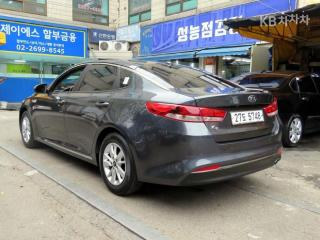2: (234, 113, 238, 123)
4: (255, 111, 258, 120)
5: (247, 111, 251, 121)
7: (238, 112, 242, 122), (251, 111, 255, 121)
8: (257, 111, 261, 120)
plate: (225, 108, 269, 127)
도: (242, 113, 246, 123)
